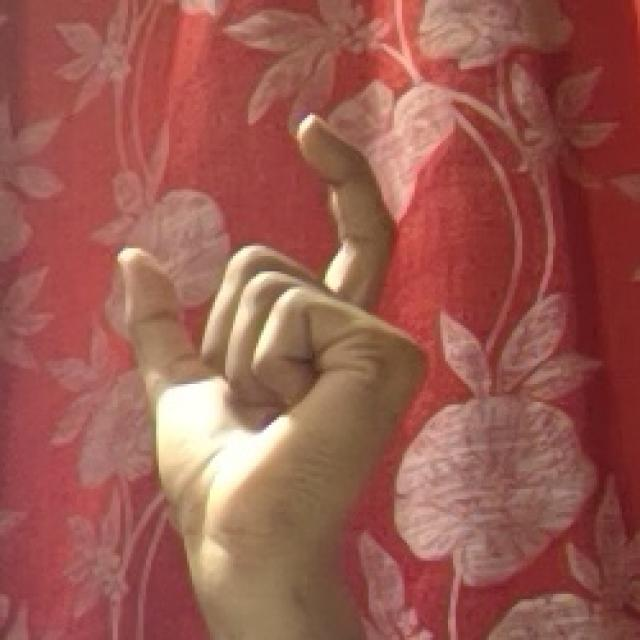Alphabet-U: (82, 99, 436, 640)
